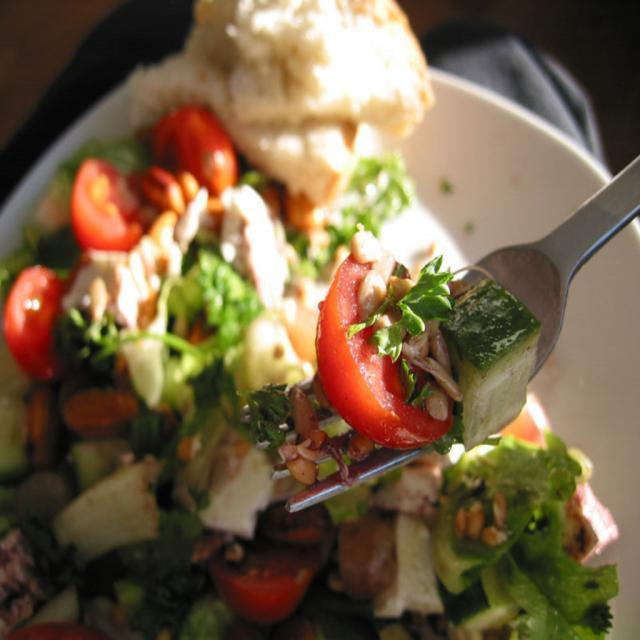Tomato: (315, 245, 435, 447), (3, 265, 69, 386), (69, 159, 149, 255), (155, 110, 244, 196), (208, 565, 311, 623)
